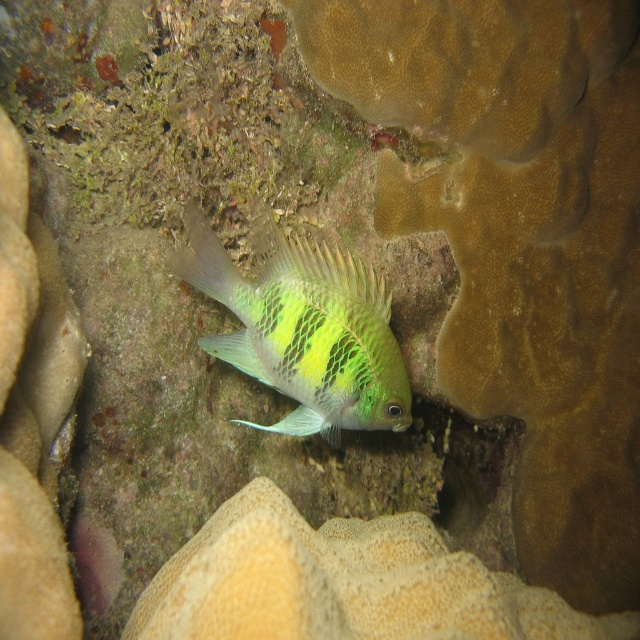Fish: (163, 199, 420, 460)
